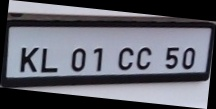character: (19, 46, 38, 73), (40, 46, 59, 73), (69, 46, 86, 73), (135, 46, 152, 70), (117, 46, 133, 70), (164, 46, 180, 70), (181, 46, 196, 70), (91, 46, 104, 72)
